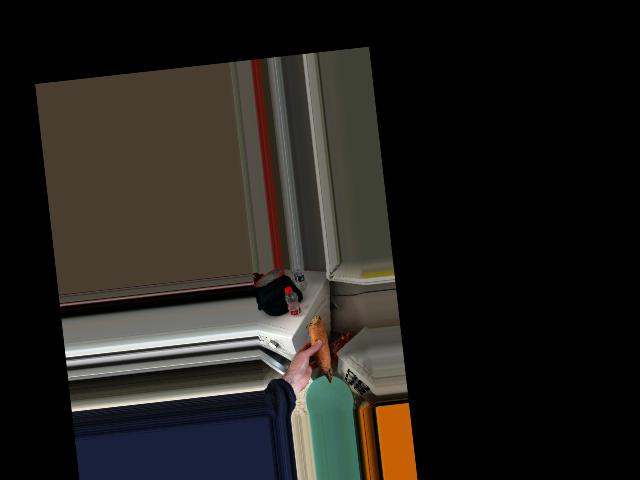sweet_potato: (303, 311, 337, 384)
